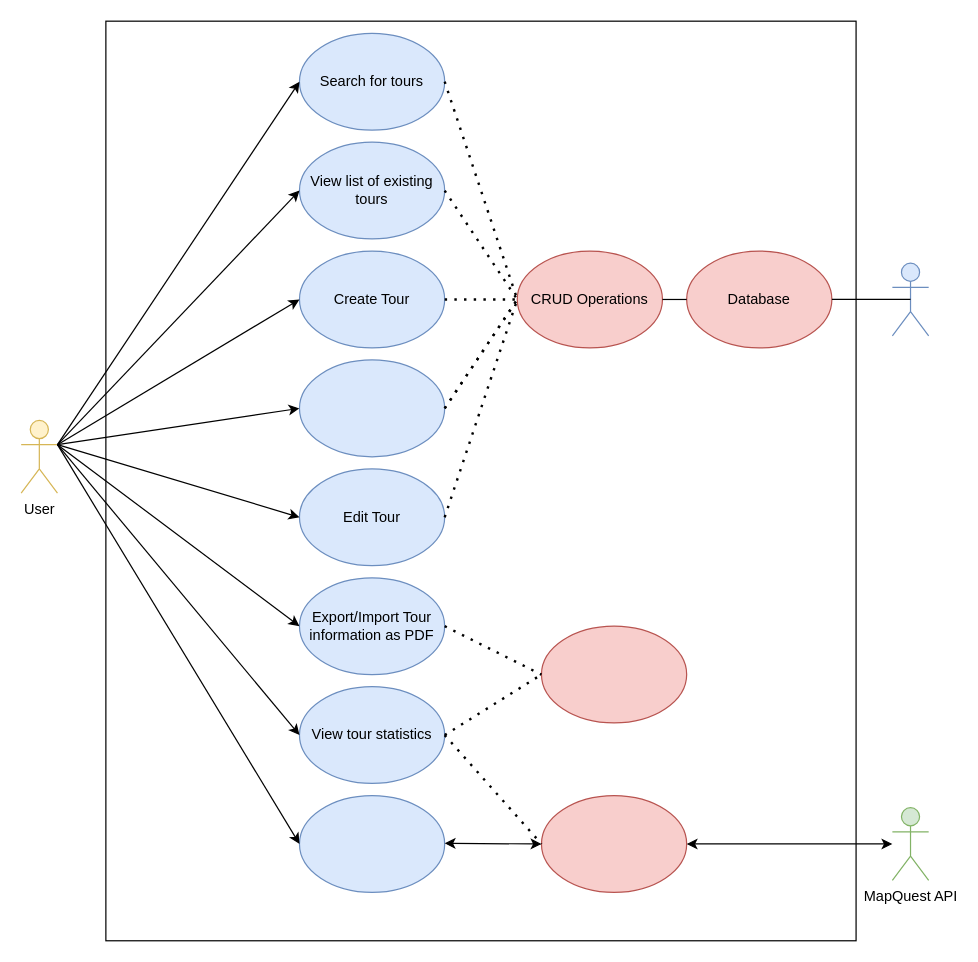
Some shapes in this 978 by 962 pixel diagram are drawn without their labels. Here are the shapes that lost their labels. From the top down, the box of each, then its label:
(891, 262, 929, 336): Admin
(298, 359, 445, 457): Delete Tour
(540, 625, 687, 723): Download PDF
(298, 794, 445, 892): View Map
(540, 794, 687, 892): Fetch Map Image and statistics from API
